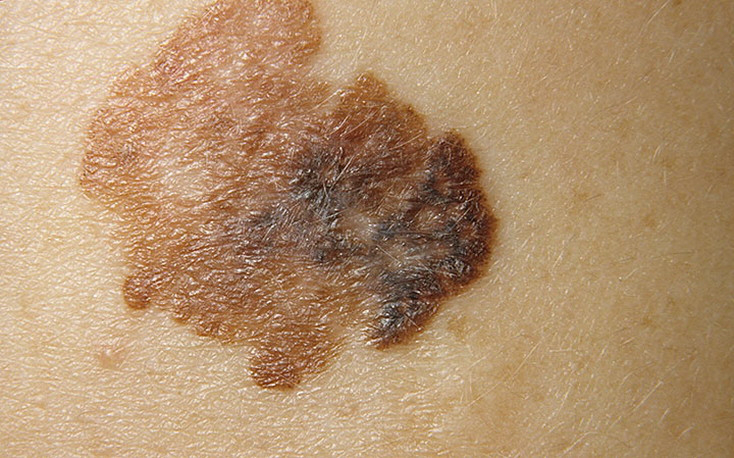Melanoma: (82, 1, 500, 390)
